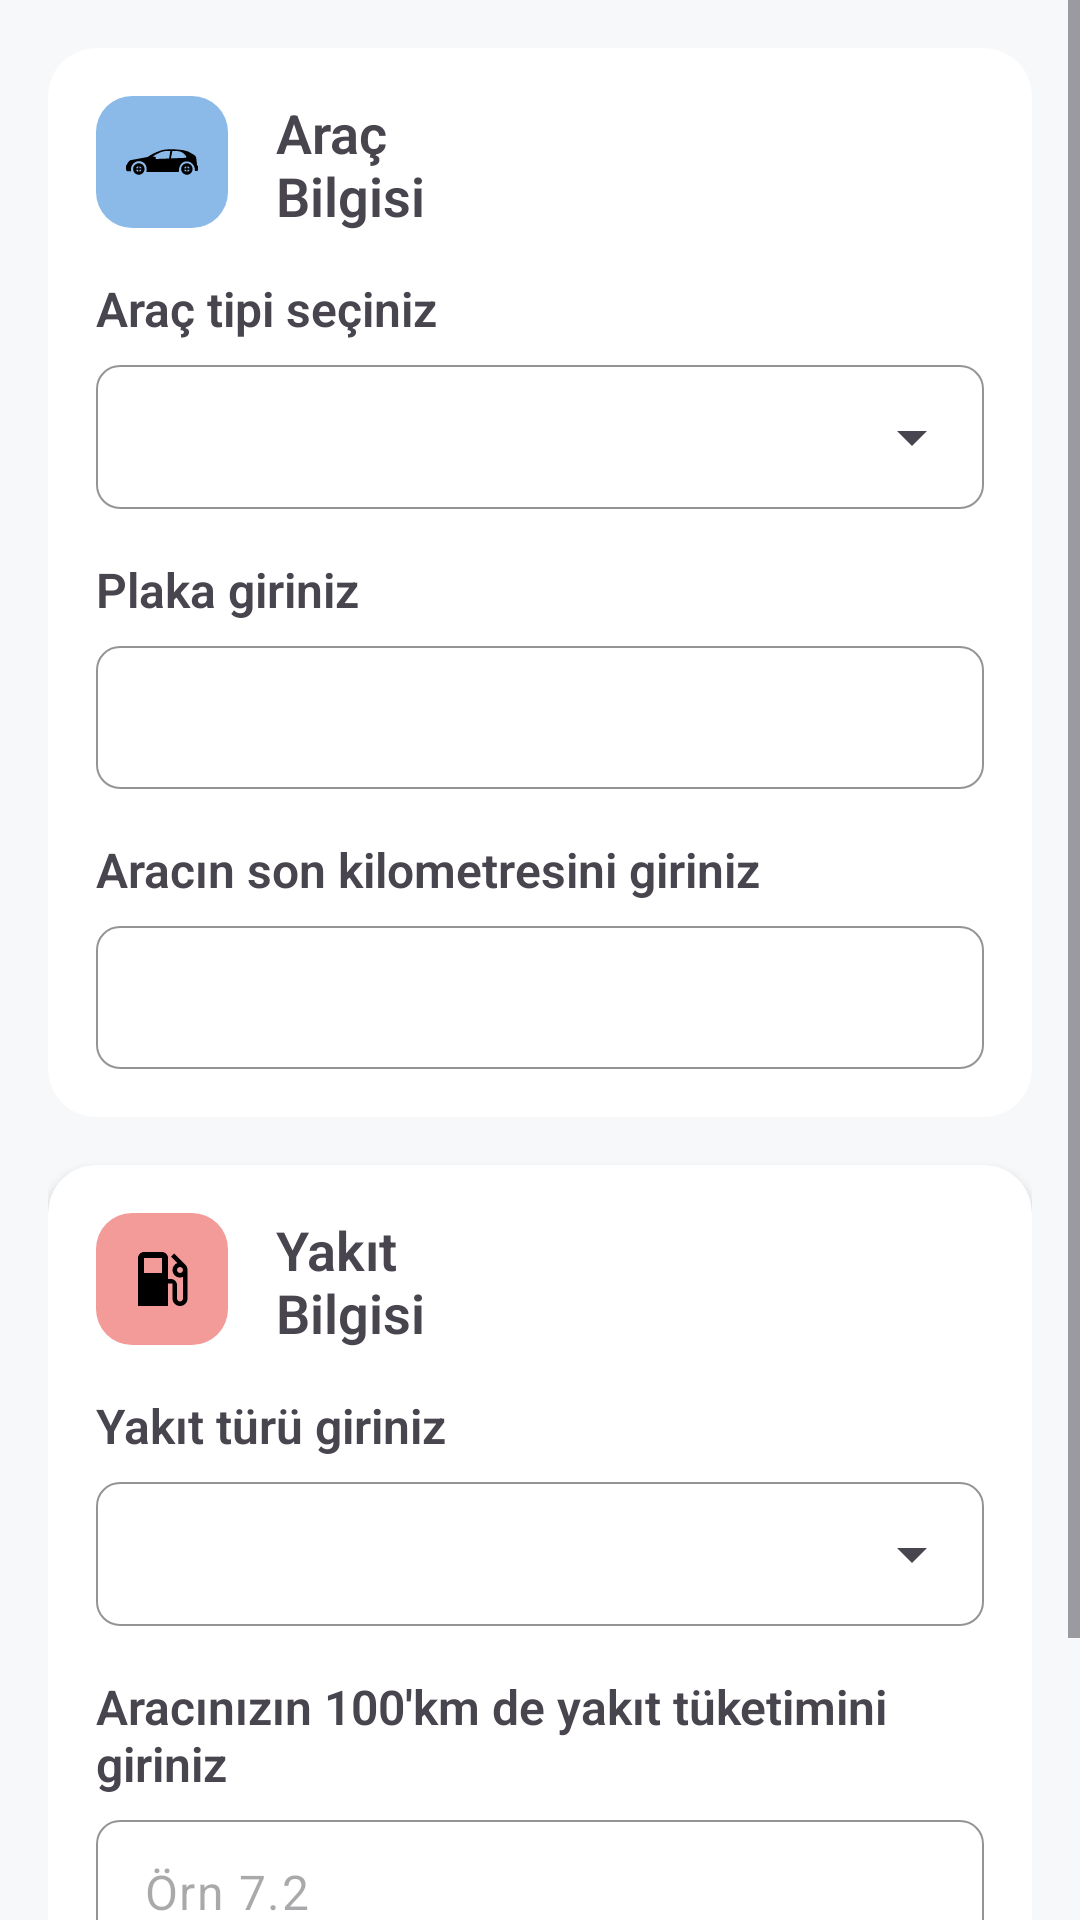

Where icons sit on this 1080*1920 app screen, as (x1, y1, x2, y2):
car: (96, 96, 228, 228)
fuel: (96, 1213, 228, 1345)
